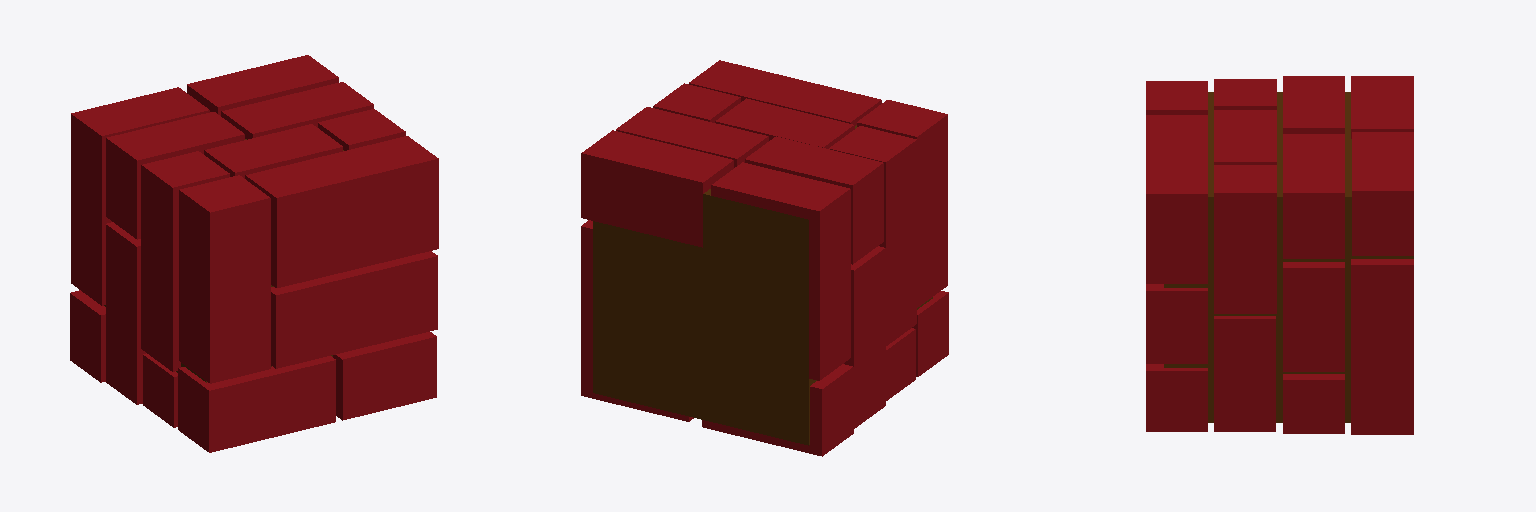
Rendered from tinker.obj.
3 renders of one model, left to right at view 1: azimuth 30°, elevation 25°; view 2: azimuth 150°, elevation 25°; view 3: azimuth 270°, elevation 25°, orthographic.
Parts seen in each view (by area): view 1: obj_0; view 2: obj_0; view 3: obj_0.
Part boxes in pixels (x1,y1,x2,y2): obj_0: (70,55,438,452); obj_0: (581,60,948,456); obj_0: (1146,76,1413,434).
Bounding box in the file's own units: 4.46 × 4.35 × 4.31.